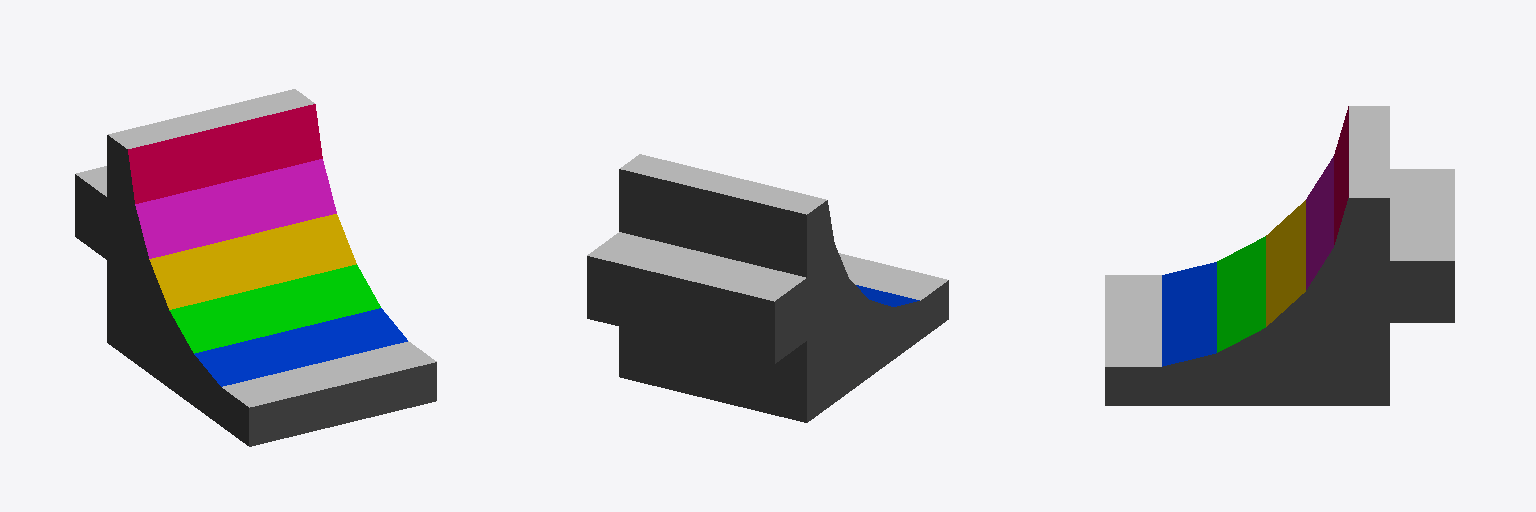
File: test_ramp.obj
3 renders of one model, left to right at view 1: azimuth 30°, elevation 25°; view 2: azimuth 150°, elevation 25°; view 3: azimuth 270°, elevation 25°, orthographic.
Parts seen in each view (by area): view 1: Plane; view 2: Plane; view 3: Plane.
Boxes of the visible parts, box(x1,y1,x2,y2) form: Plane: box(75, 89, 436, 446); Plane: box(587, 154, 948, 422); Plane: box(1105, 106, 1454, 405).
Size of the model in its own units: 10 by 10.61 by 16.11.